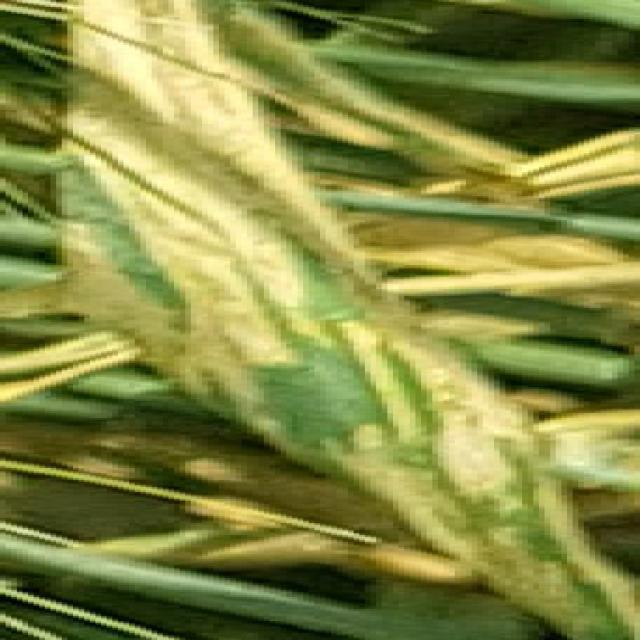Yellow_Rust: (53, 15, 614, 624)
